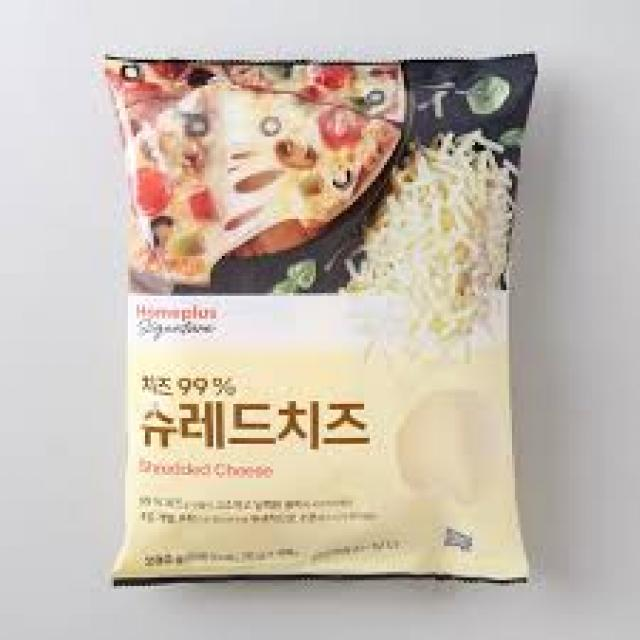cheese: (107, 58, 528, 566)
